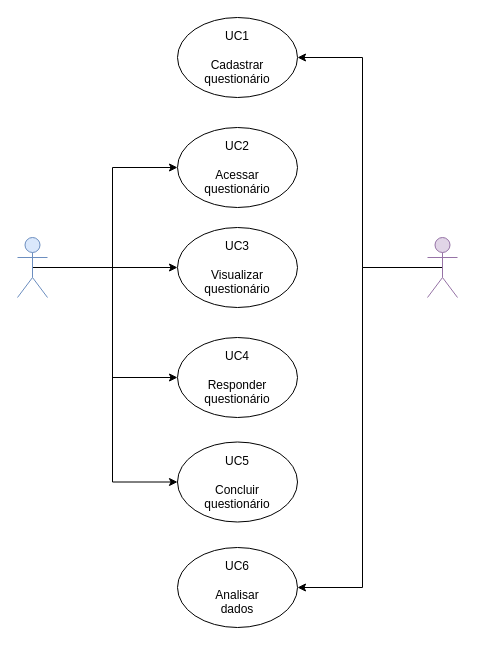
This 493x645 diagram has some shape labels left out. Here are the shapes that lost their labels. From the top down, the centre of each, then its label:
At [32,267]: "Metrô".
At [442,267]: "Pesquisador".
